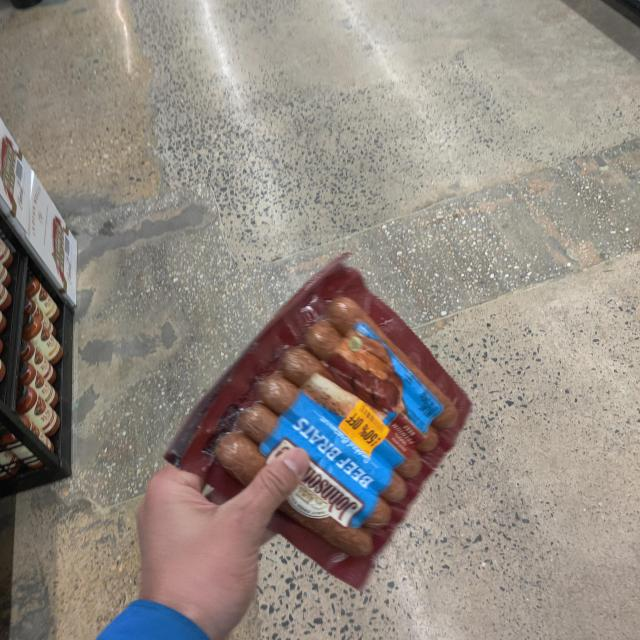Meat: (144, 252, 495, 587)
